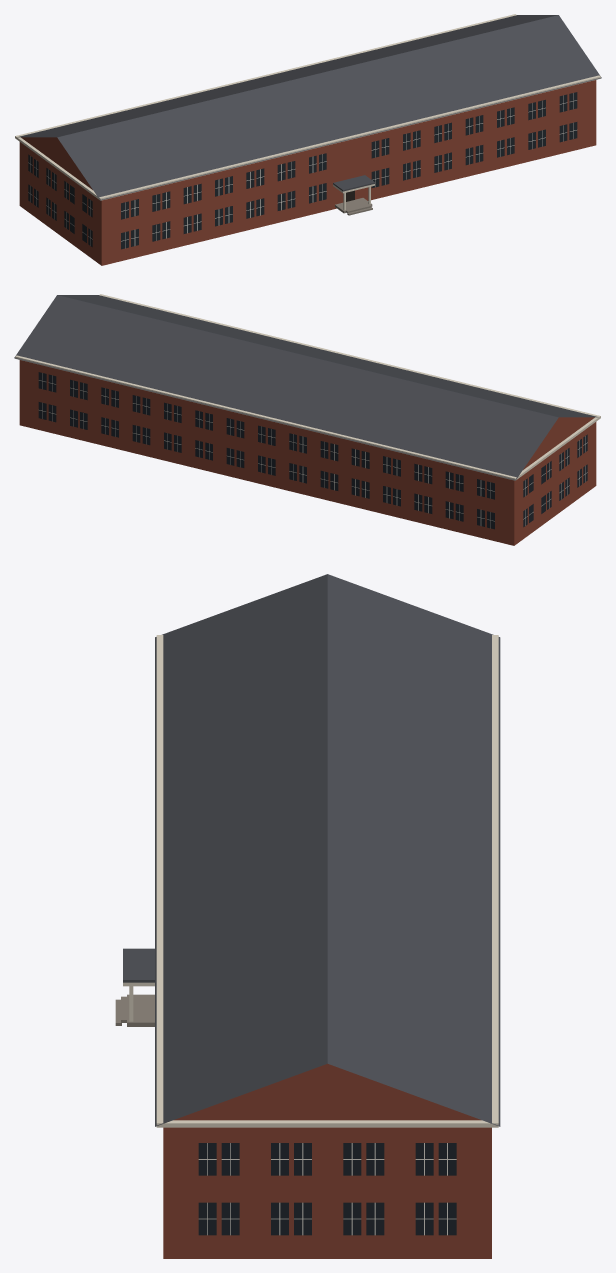
File: veterans-training-school-1961.glb
The picture shows the model from 3 angles, top to bottom: view 1: azimuth 30°, elevation 25°; view 2: azimuth 150°, elevation 25°; view 3: azimuth 270°, elevation 25°; orthographic projection. The views are drawn at different scales.
Visible parts, largest first — view 1: veterans_slate, veterans_brick, veterans_glass, veterans_trim, veterans_sash, veterans_base; view 2: veterans_slate, veterans_brick, veterans_glass, veterans_trim, veterans_sash; view 3: veterans_slate, veterans_brick, veterans_trim, veterans_glass, veterans_sash, veterans_base.
Part boxes in pixels (<box>): veterans_slate: <box>17,15,601,200</box>; veterans_brick: <box>19,80,596,265</box>; veterans_glass: <box>28,92,577,249</box>; veterans_trim: <box>15,14,600,210</box>; veterans_sash: <box>28,93,576,248</box>; veterans_base: <box>335,198,372,215</box>; veterans_slate: <box>14,295,598,480</box>; veterans_brick: <box>19,360,596,545</box>; veterans_glass: <box>38,372,587,529</box>; veterans_trim: <box>15,294,600,480</box>; veterans_sash: <box>39,373,587,528</box>; veterans_slate: <box>123,574,500,1126</box>; veterans_brick: <box>163,1063,491,1258</box>; veterans_trim: <box>123,635,498,1127</box>; veterans_glass: <box>198,1143,456,1235</box>; veterans_sash: <box>198,1143,456,1235</box>; veterans_base: <box>115,994,154,1026</box>.
Size of the model in its own units: 70.5 by 13.34 by 23.39.
